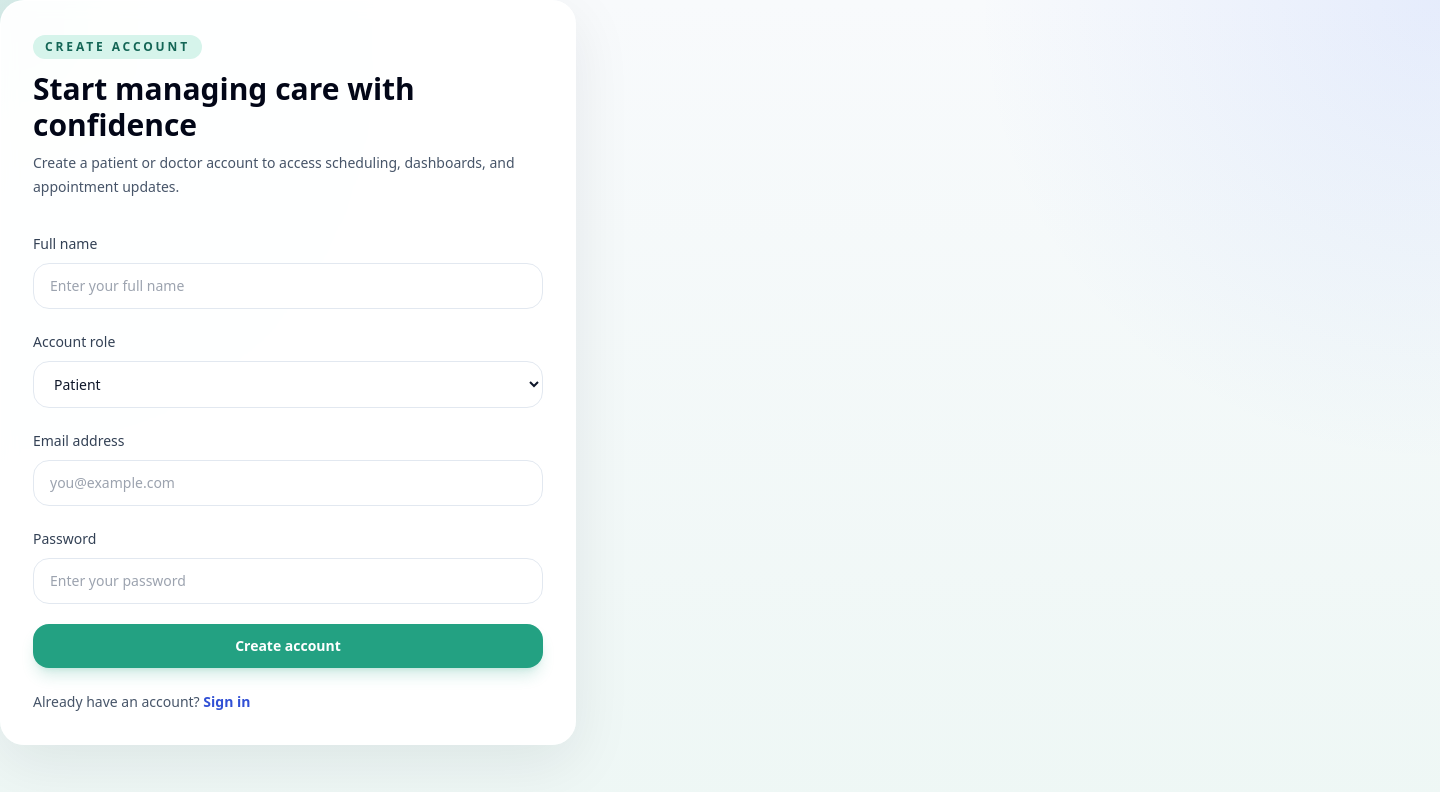
Test: AuthForm › shows validation errors for an invalid doctor signup
In the field labelled "Full name": (288, 286) [33,263,543,309], type "A"
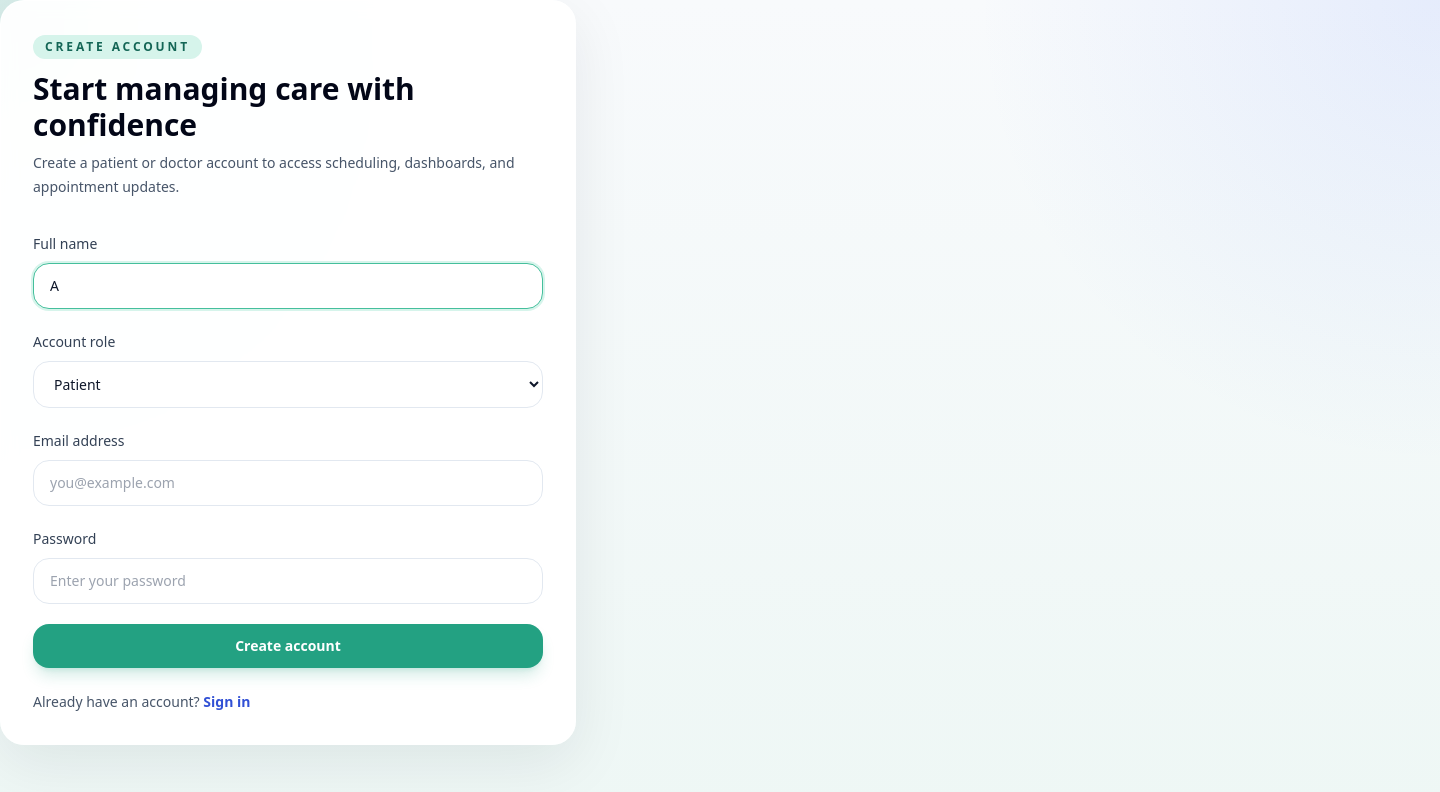
Select "Doctor" in the dropdown labelled "Account role": (288, 384) [33,361,543,408]
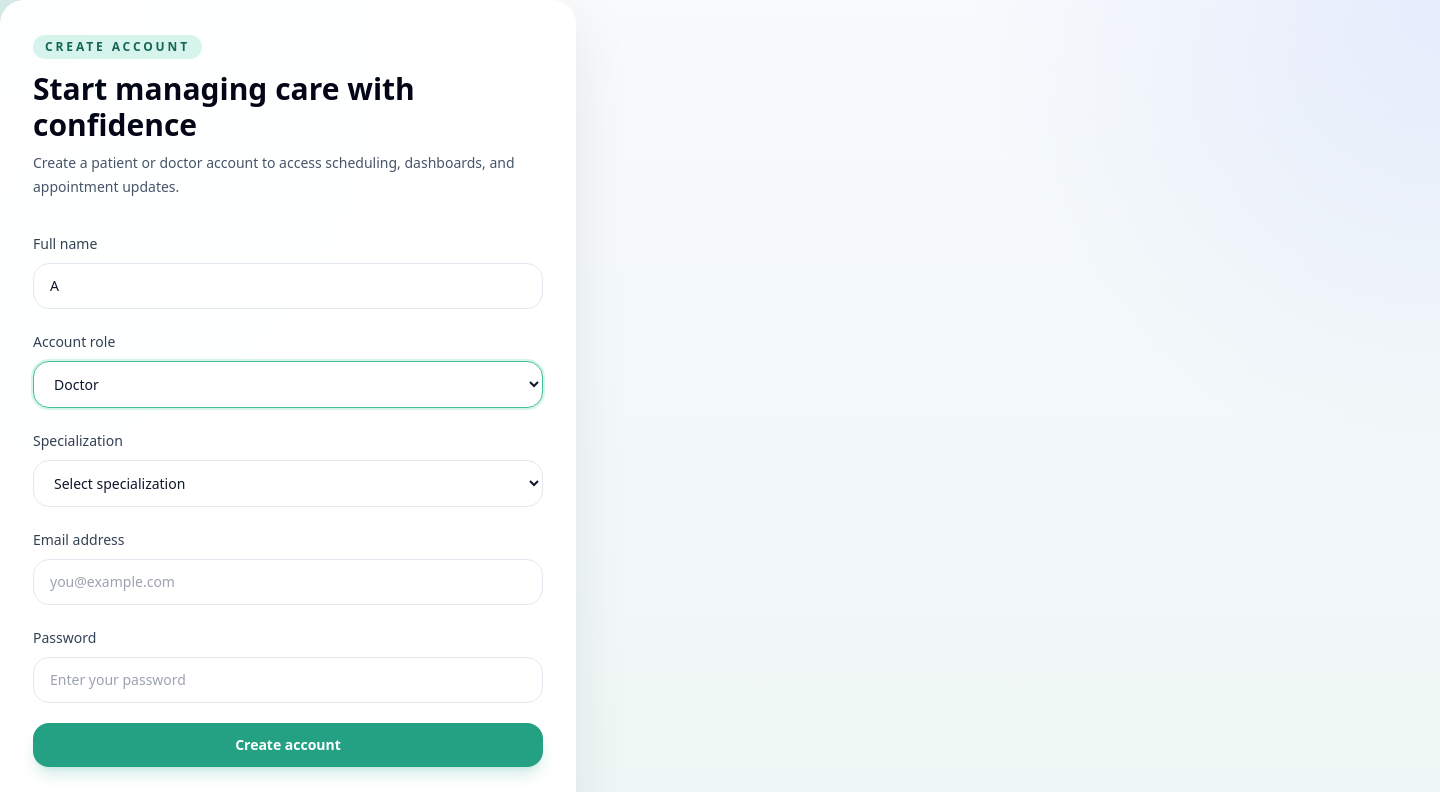
In the field labelled "Email address": (288, 582) [33,559,543,605], type "invalid-email"
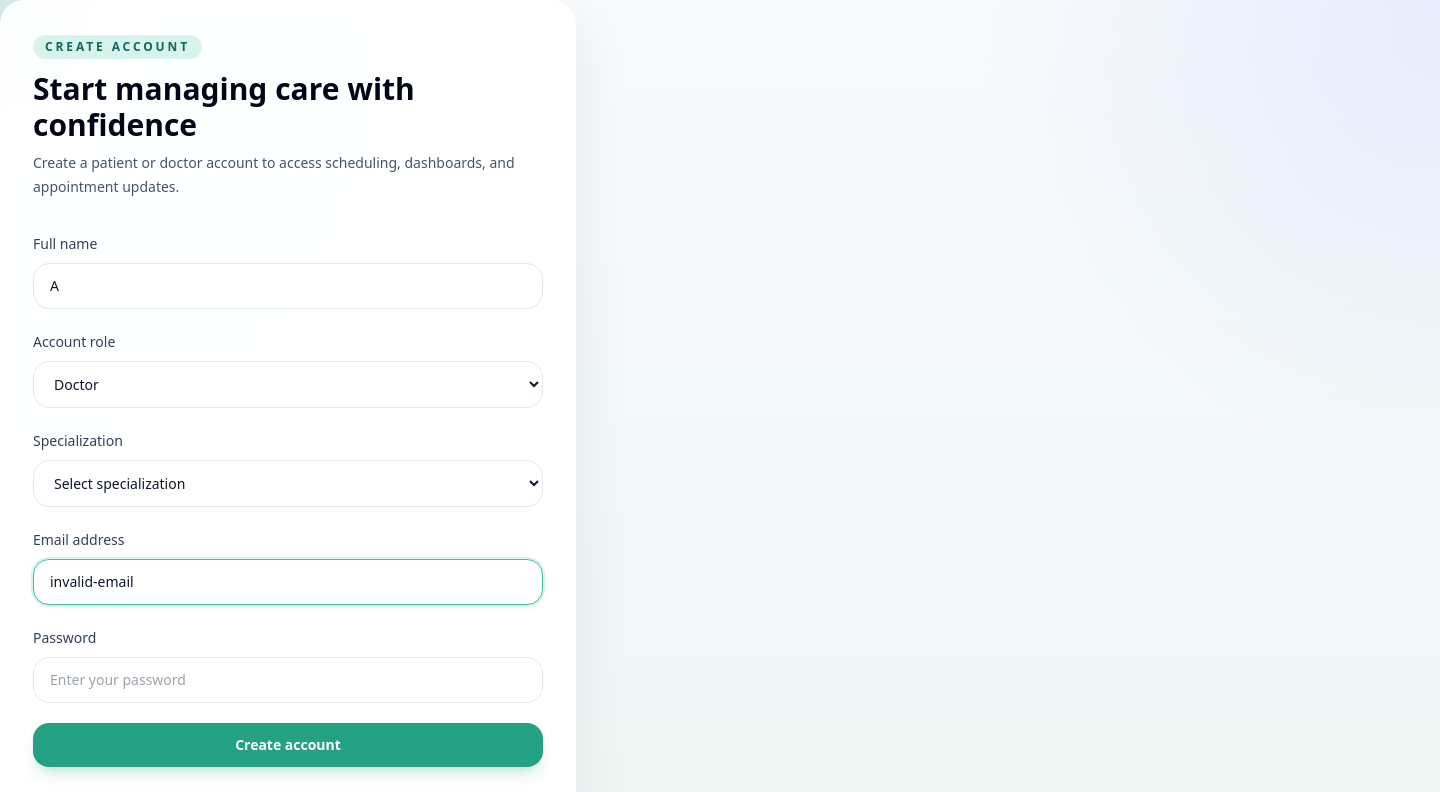
In the password field labelled "Password": (288, 680) [33,657,543,703], type "123"
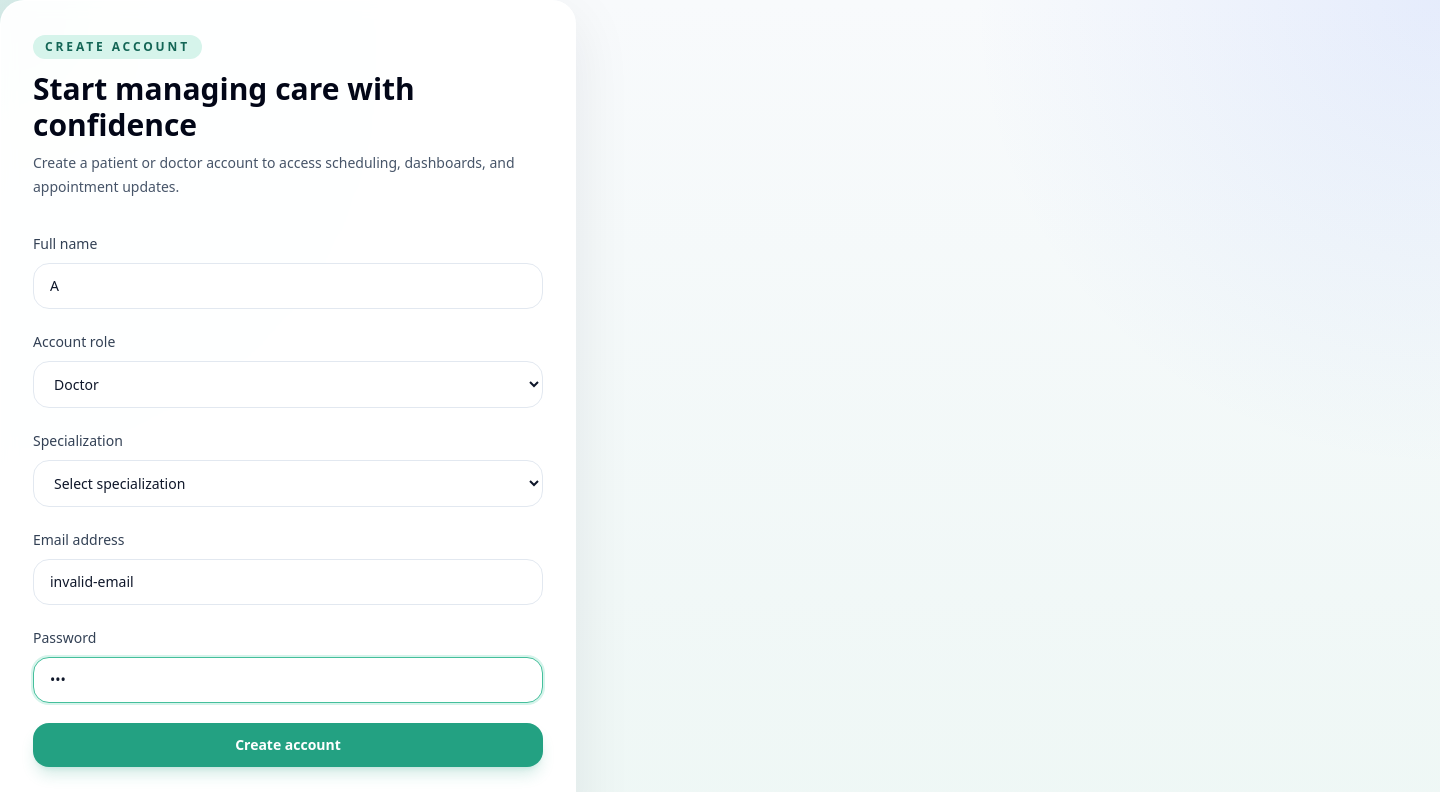
Select "Select specialization" in the dropdown labelled "Specialization": (288, 484) [33,460,543,507]
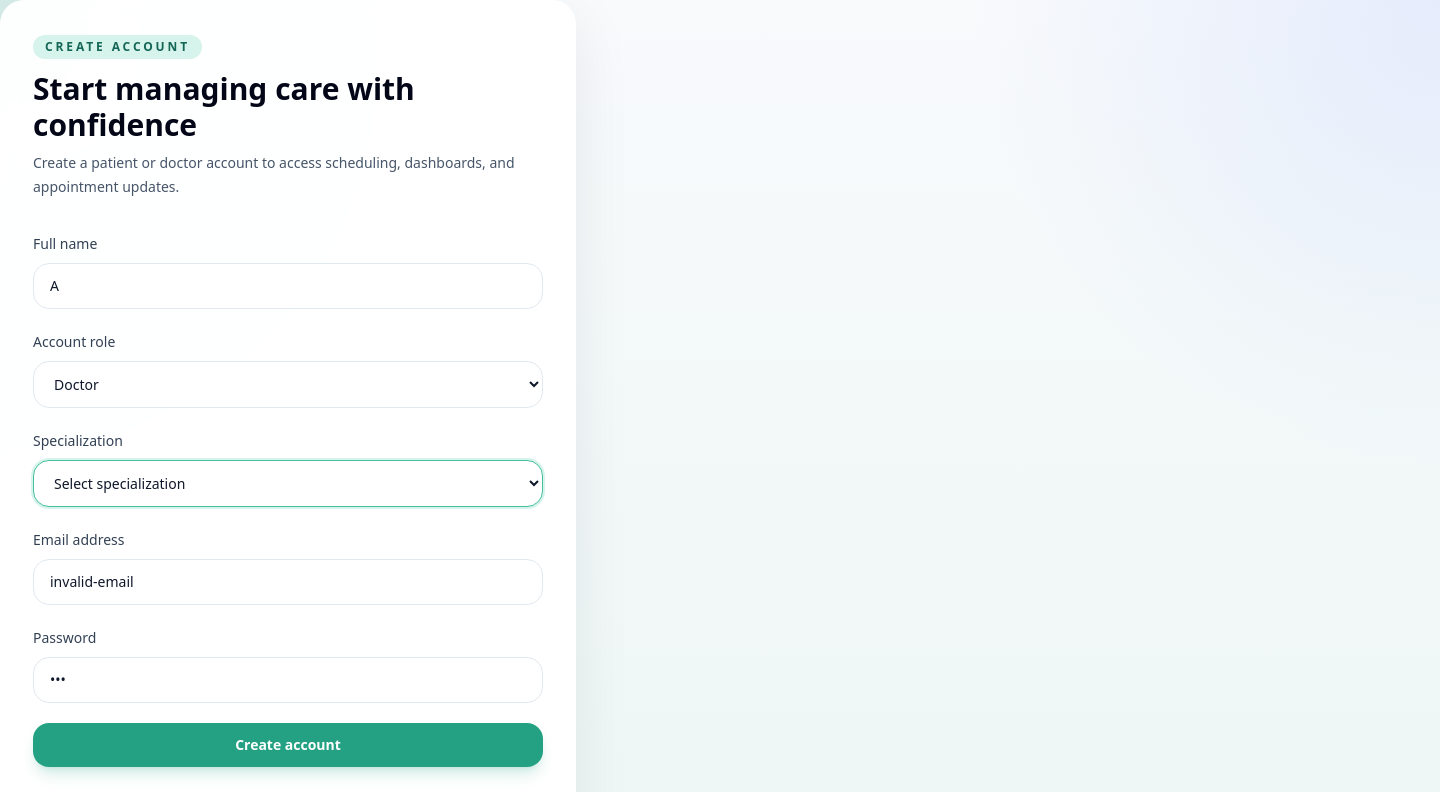
Click the button "Create account": (288, 745) [33,723,543,767]
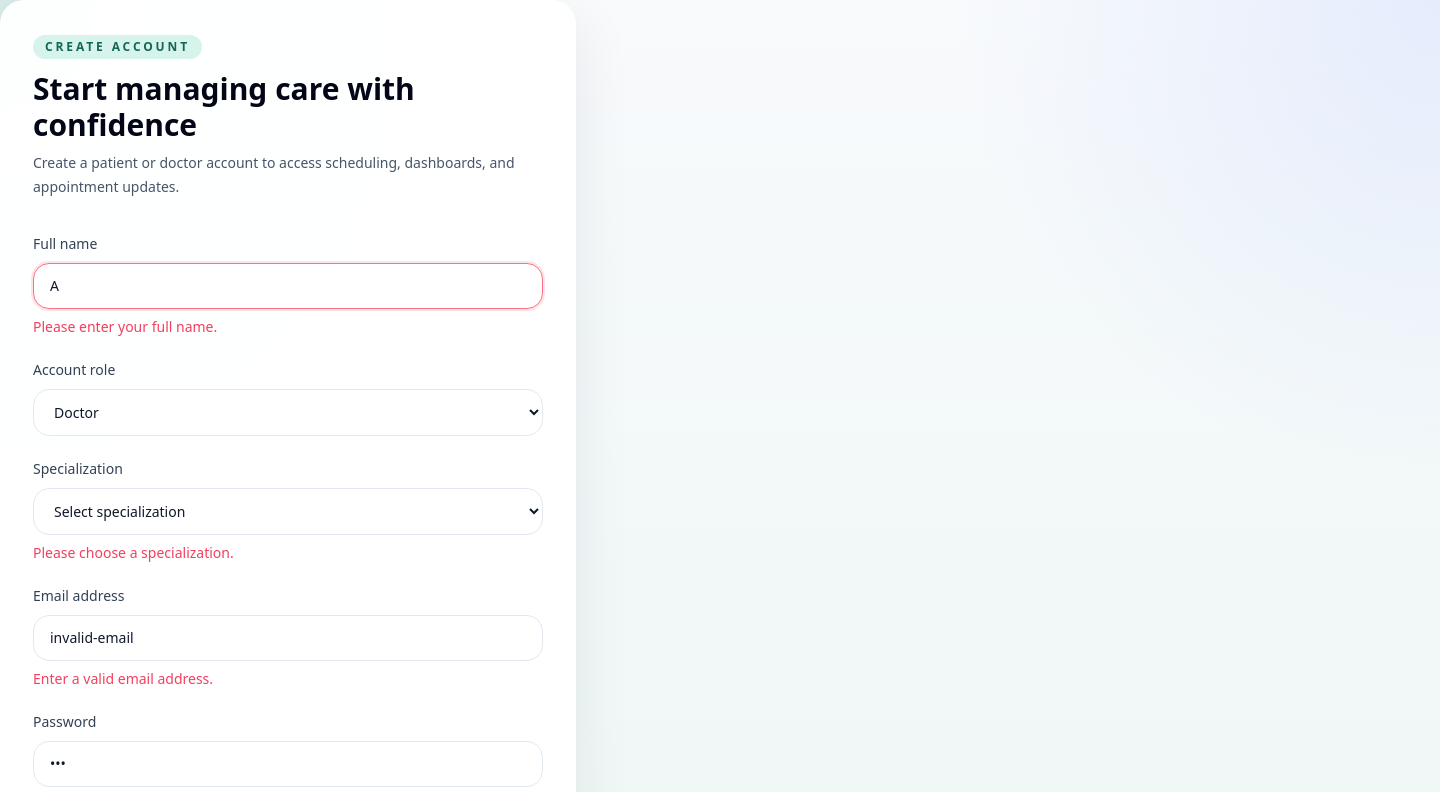
Check: the text "Please enter your full name." is shown, box [33,317,217,336]
Check: the text "Enter a valid email address." is shown, box [33,669,213,688]
Check: the text "Please choose a specialization." is shown, box [33,543,234,562]
